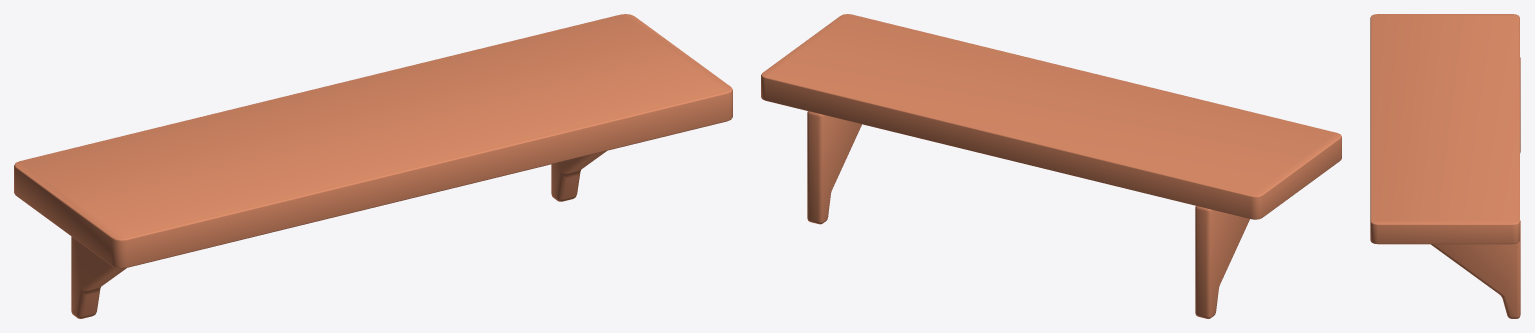
File: prateleira_cozinha_campestre.glb
3 views of the same model, side by side, from view 1: azimuth 30°, elevation 25°; view 2: azimuth 150°, elevation 25°; view 3: azimuth 270°, elevation 25° (orthographic). The views are drawn at different scales.
Parts seen in each view (by area): view 1: prateleira_cozinha_campestre; view 2: prateleira_cozinha_campestre; view 3: prateleira_cozinha_campestre.
Boxes of the visible parts, bbox=[...] form: prateleira_cozinha_campestre: bbox=[14, 14, 732, 318]; prateleira_cozinha_campestre: bbox=[761, 14, 1341, 318]; prateleira_cozinha_campestre: bbox=[1370, 14, 1520, 318].
Bounding box in the file's own units: 0.8 × 0.206 × 0.241.
Materials: 1 (1 with a texture image).
